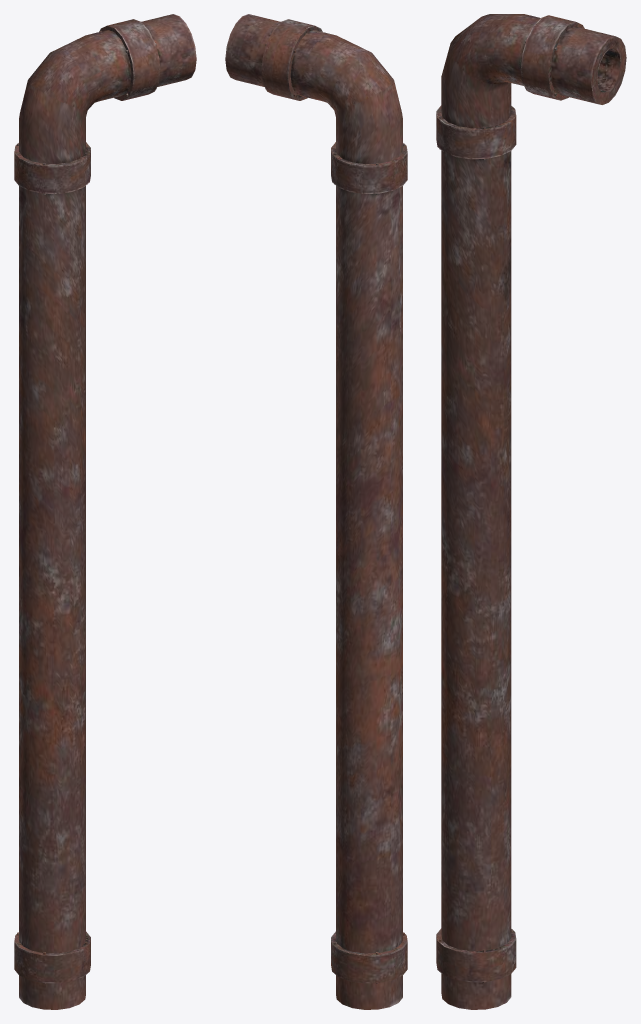
File: mp_rustypipe.glb
3 renders of one model, left to right at view 1: azimuth 30°, elevation 25°; view 2: azimuth 150°, elevation 25°; view 3: azimuth 330°, elevation 25°, orthographic. The views are drawn at different scales.
Visible parts, largest first — view 1: Rusty_Pipe; view 2: Rusty_Pipe; view 3: Rusty_Pipe.
Boxes of the visible parts, box(x1,y1,x2,y2) form: Rusty_Pipe: box(14, 14, 196, 1009); Rusty_Pipe: box(225, 14, 407, 1009); Rusty_Pipe: box(436, 14, 626, 1009).
Bounding box in the file's own units: 0.1624 × 0.92 × 0.0677.
Materials: 1 (1 with a texture image).
